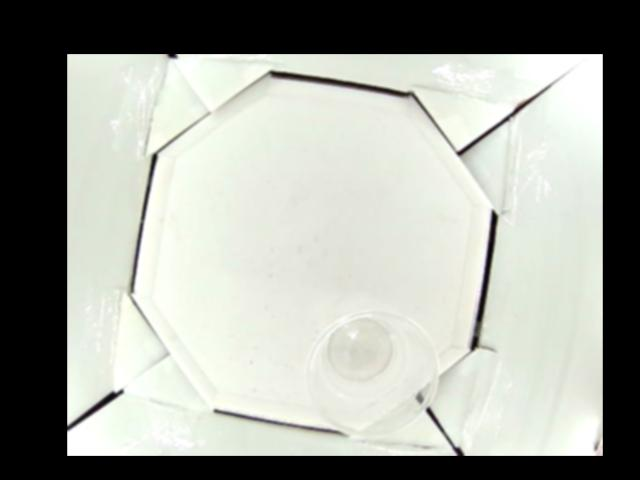Cup: (301, 307, 439, 437)
